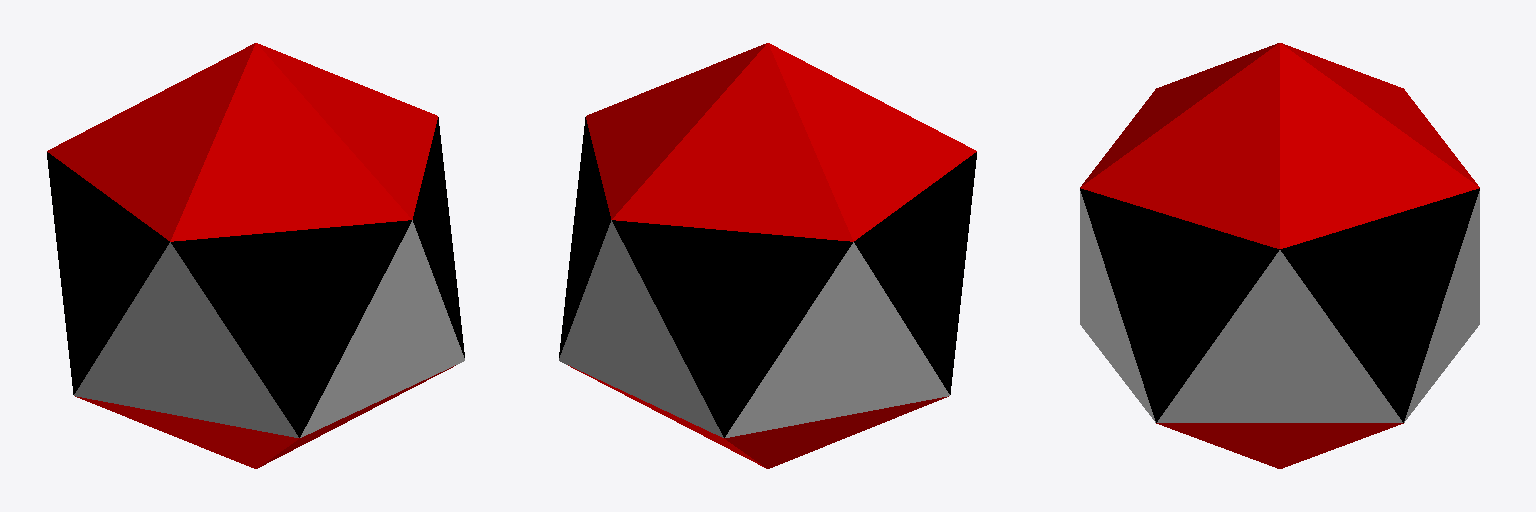
Rendered from Ball.obj.
The picture shows the model from 3 angles: view 1: azimuth 30°, elevation 25°; view 2: azimuth 150°, elevation 25°; view 3: azimuth 270°, elevation 25°; orthographic projection.
Size of the model in its own units: 0.7155 by 0.8 by 0.6805.